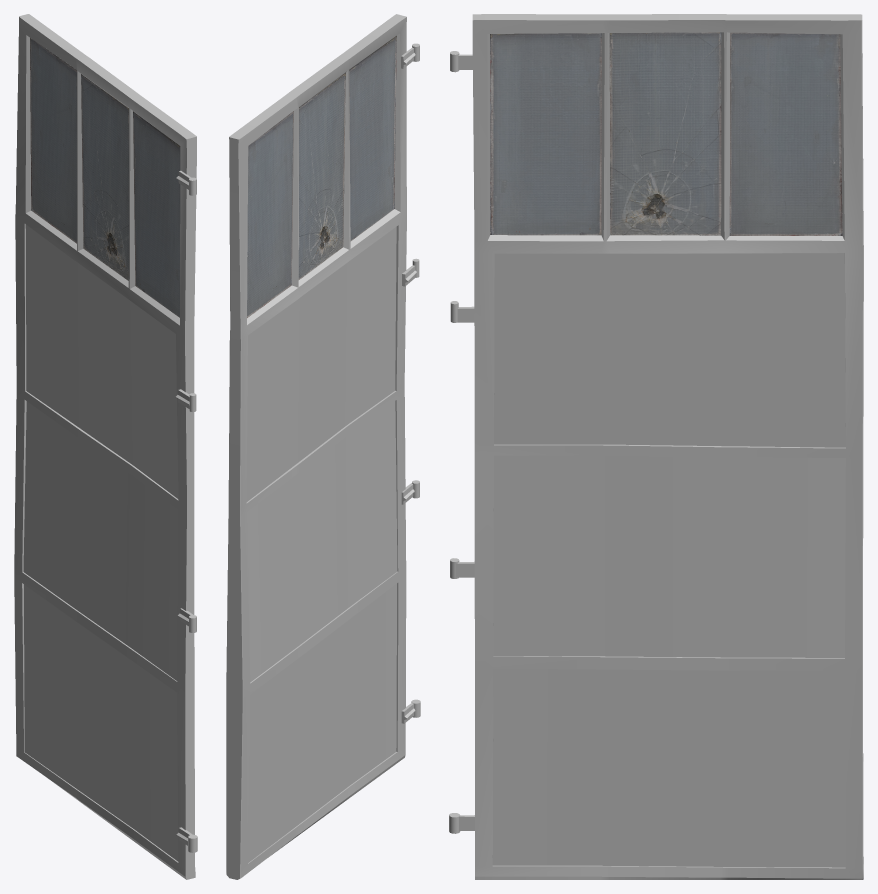
File: sm_WarehouseDoor_01_02.fbx
3 views of the same model, side by side, from view 1: azimuth 30°, elevation 25°; view 2: azimuth 150°, elevation 25°; view 3: azimuth 270°, elevation 25° (orthographic). The views are drawn at different scales.
Visible parts, largest first — view 1: sm_WarehouseDoor_01_02_LOD0; view 2: sm_WarehouseDoor_01_02_LOD0; view 3: sm_WarehouseDoor_01_02_LOD0.
Boxes of the visible parts, bbox=[...] form: sm_WarehouseDoor_01_02_LOD0: bbox=[14, 14, 197, 879]; sm_WarehouseDoor_01_02_LOD0: bbox=[226, 14, 420, 879]; sm_WarehouseDoor_01_02_LOD0: bbox=[449, 14, 863, 879].
Bounding box in the file's own units: 9.22 × 150 × 342.
